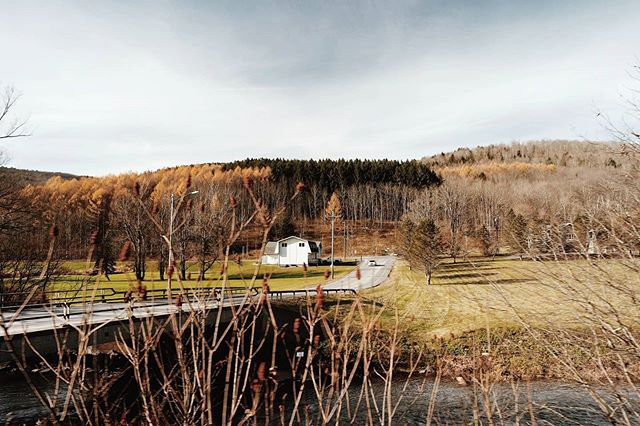bridge: (1, 281, 297, 426)
building: (270, 233, 322, 267)
grass: (403, 265, 640, 356)
sky: (1, 1, 618, 148)
vegetation: (1, 163, 623, 253)
